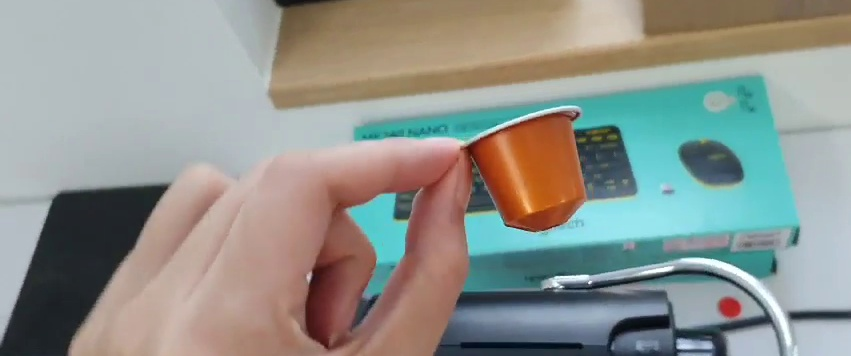capsule_5: (462, 102, 592, 231)
